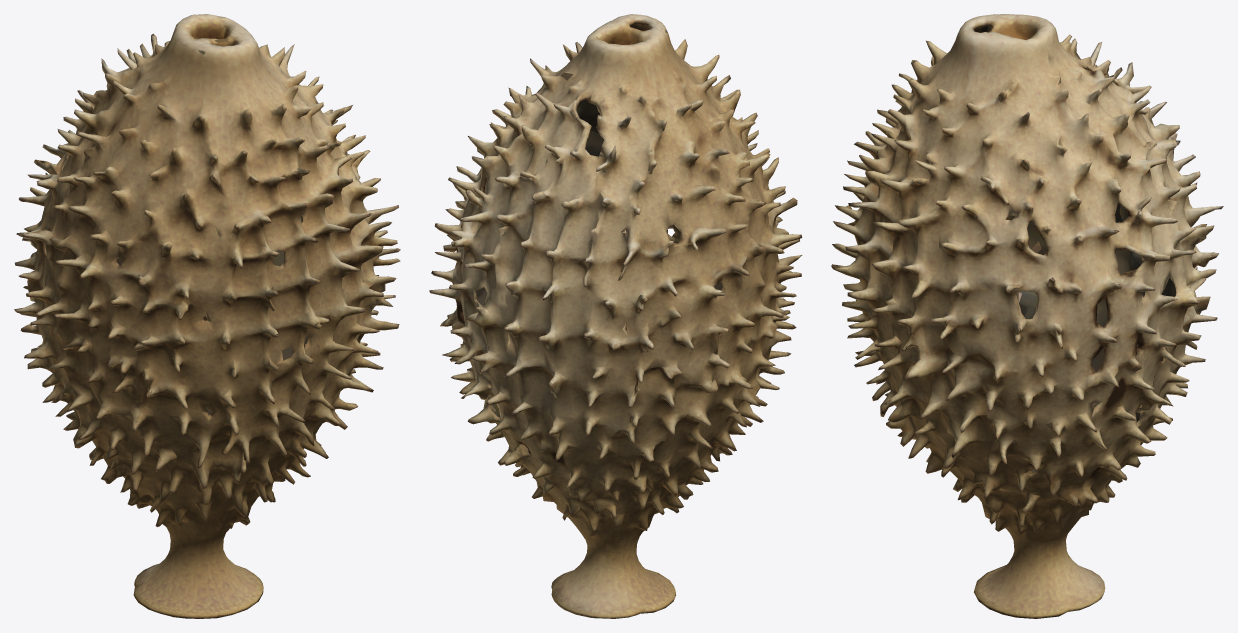
3 renders of one model, left to right at view 1: azimuth 30°, elevation 25°; view 2: azimuth 150°, elevation 25°; view 3: azimuth 270°, elevation 25°, orthographic. The views are drawn at different scales.
Visible parts, largest first — view 1: world; view 2: world; view 3: world.
Boxes of the visible parts, x1=… form: world: x1=14, y1=14, x2=400, y2=618; world: x1=429, y1=14, x2=802, y2=618; world: x1=831, y1=14, x2=1223, y2=618.
Bounding box in the file's own units: 0.0988 × 0.1615 × 0.1012.
1 material, 1 textured.
